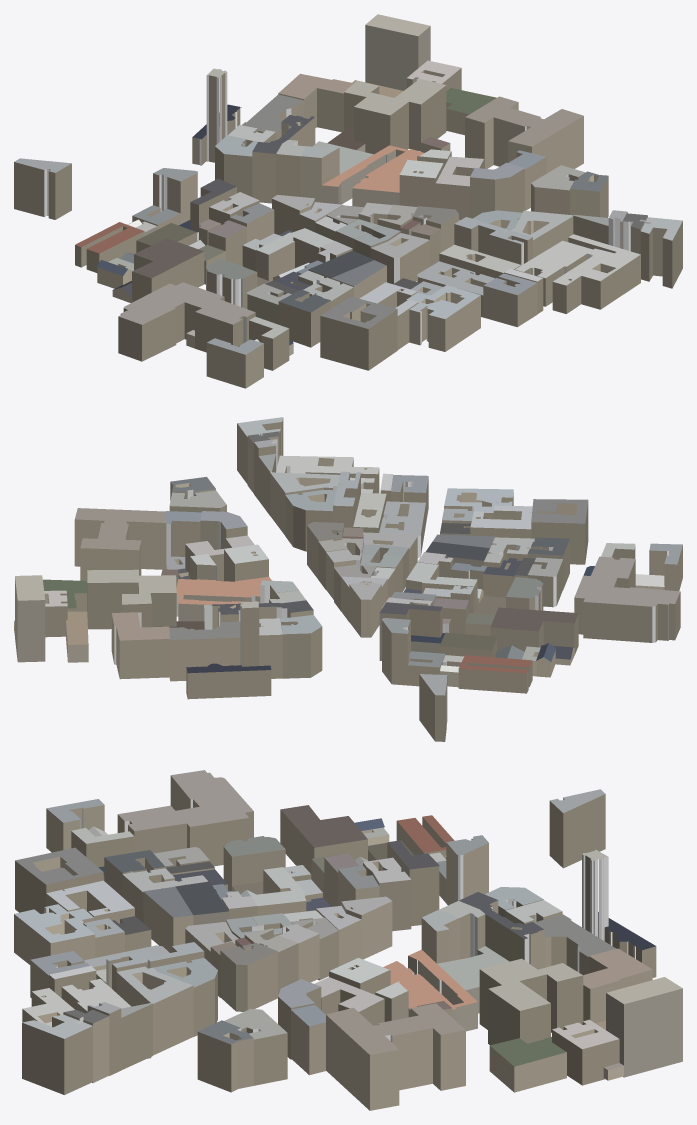
The picture shows the model from 3 angles, top to bottom: view 1: azimuth 30°, elevation 25°; view 2: azimuth 150°, elevation 25°; view 3: azimuth 270°, elevation 25°; orthographic projection. The views are drawn at different scales.
Visible parts, largest first — view 1: tuile; view 2: tuile; view 3: tuile.
Part boxes in pixels (x1=…): tuile: x1=14, y1=14, x2=682, y2=388; tuile: x1=14, y1=417, x2=682, y2=741; tuile: x1=14, y1=770, x2=682, y2=1110.
Size of the model in its own units: 302 by 50.53 by 278.
